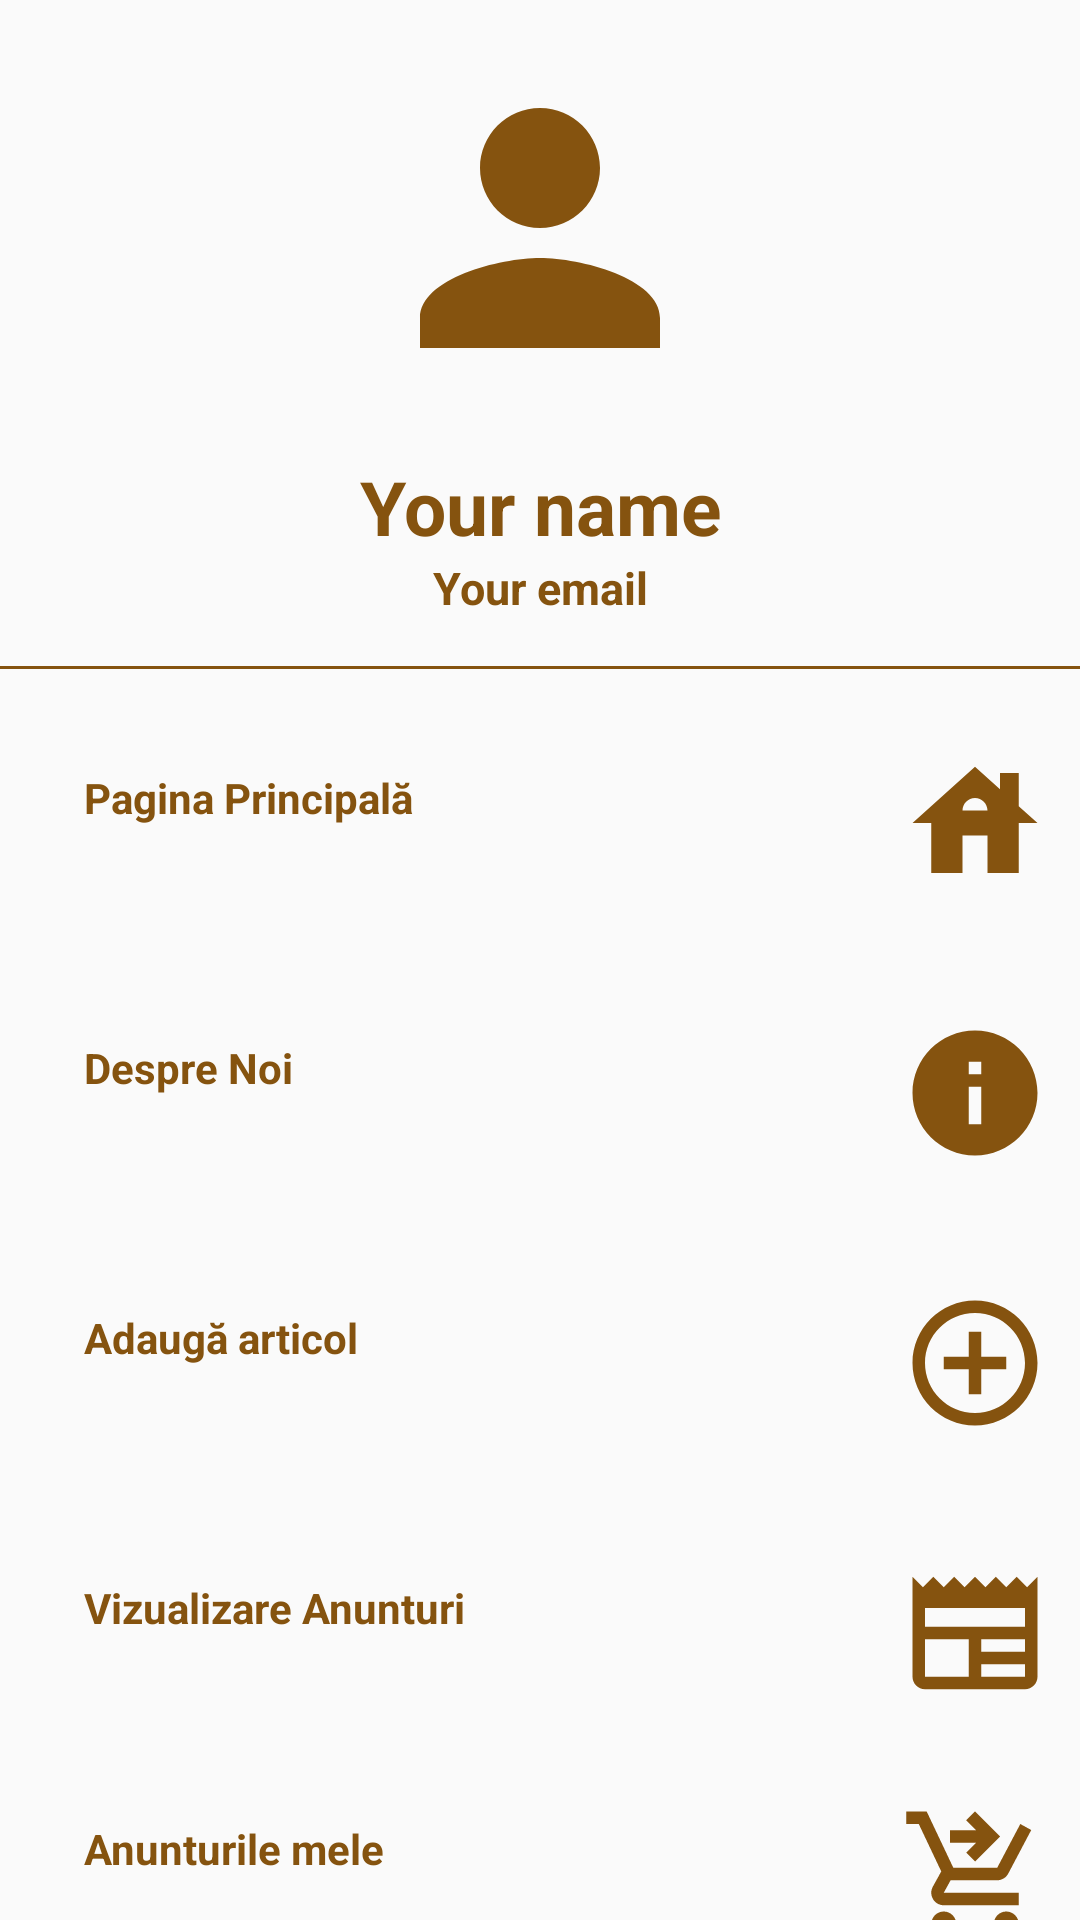

Screen size 1080x1920. Icon name, then its center in pixels as (x,y):
person: (540,228)
